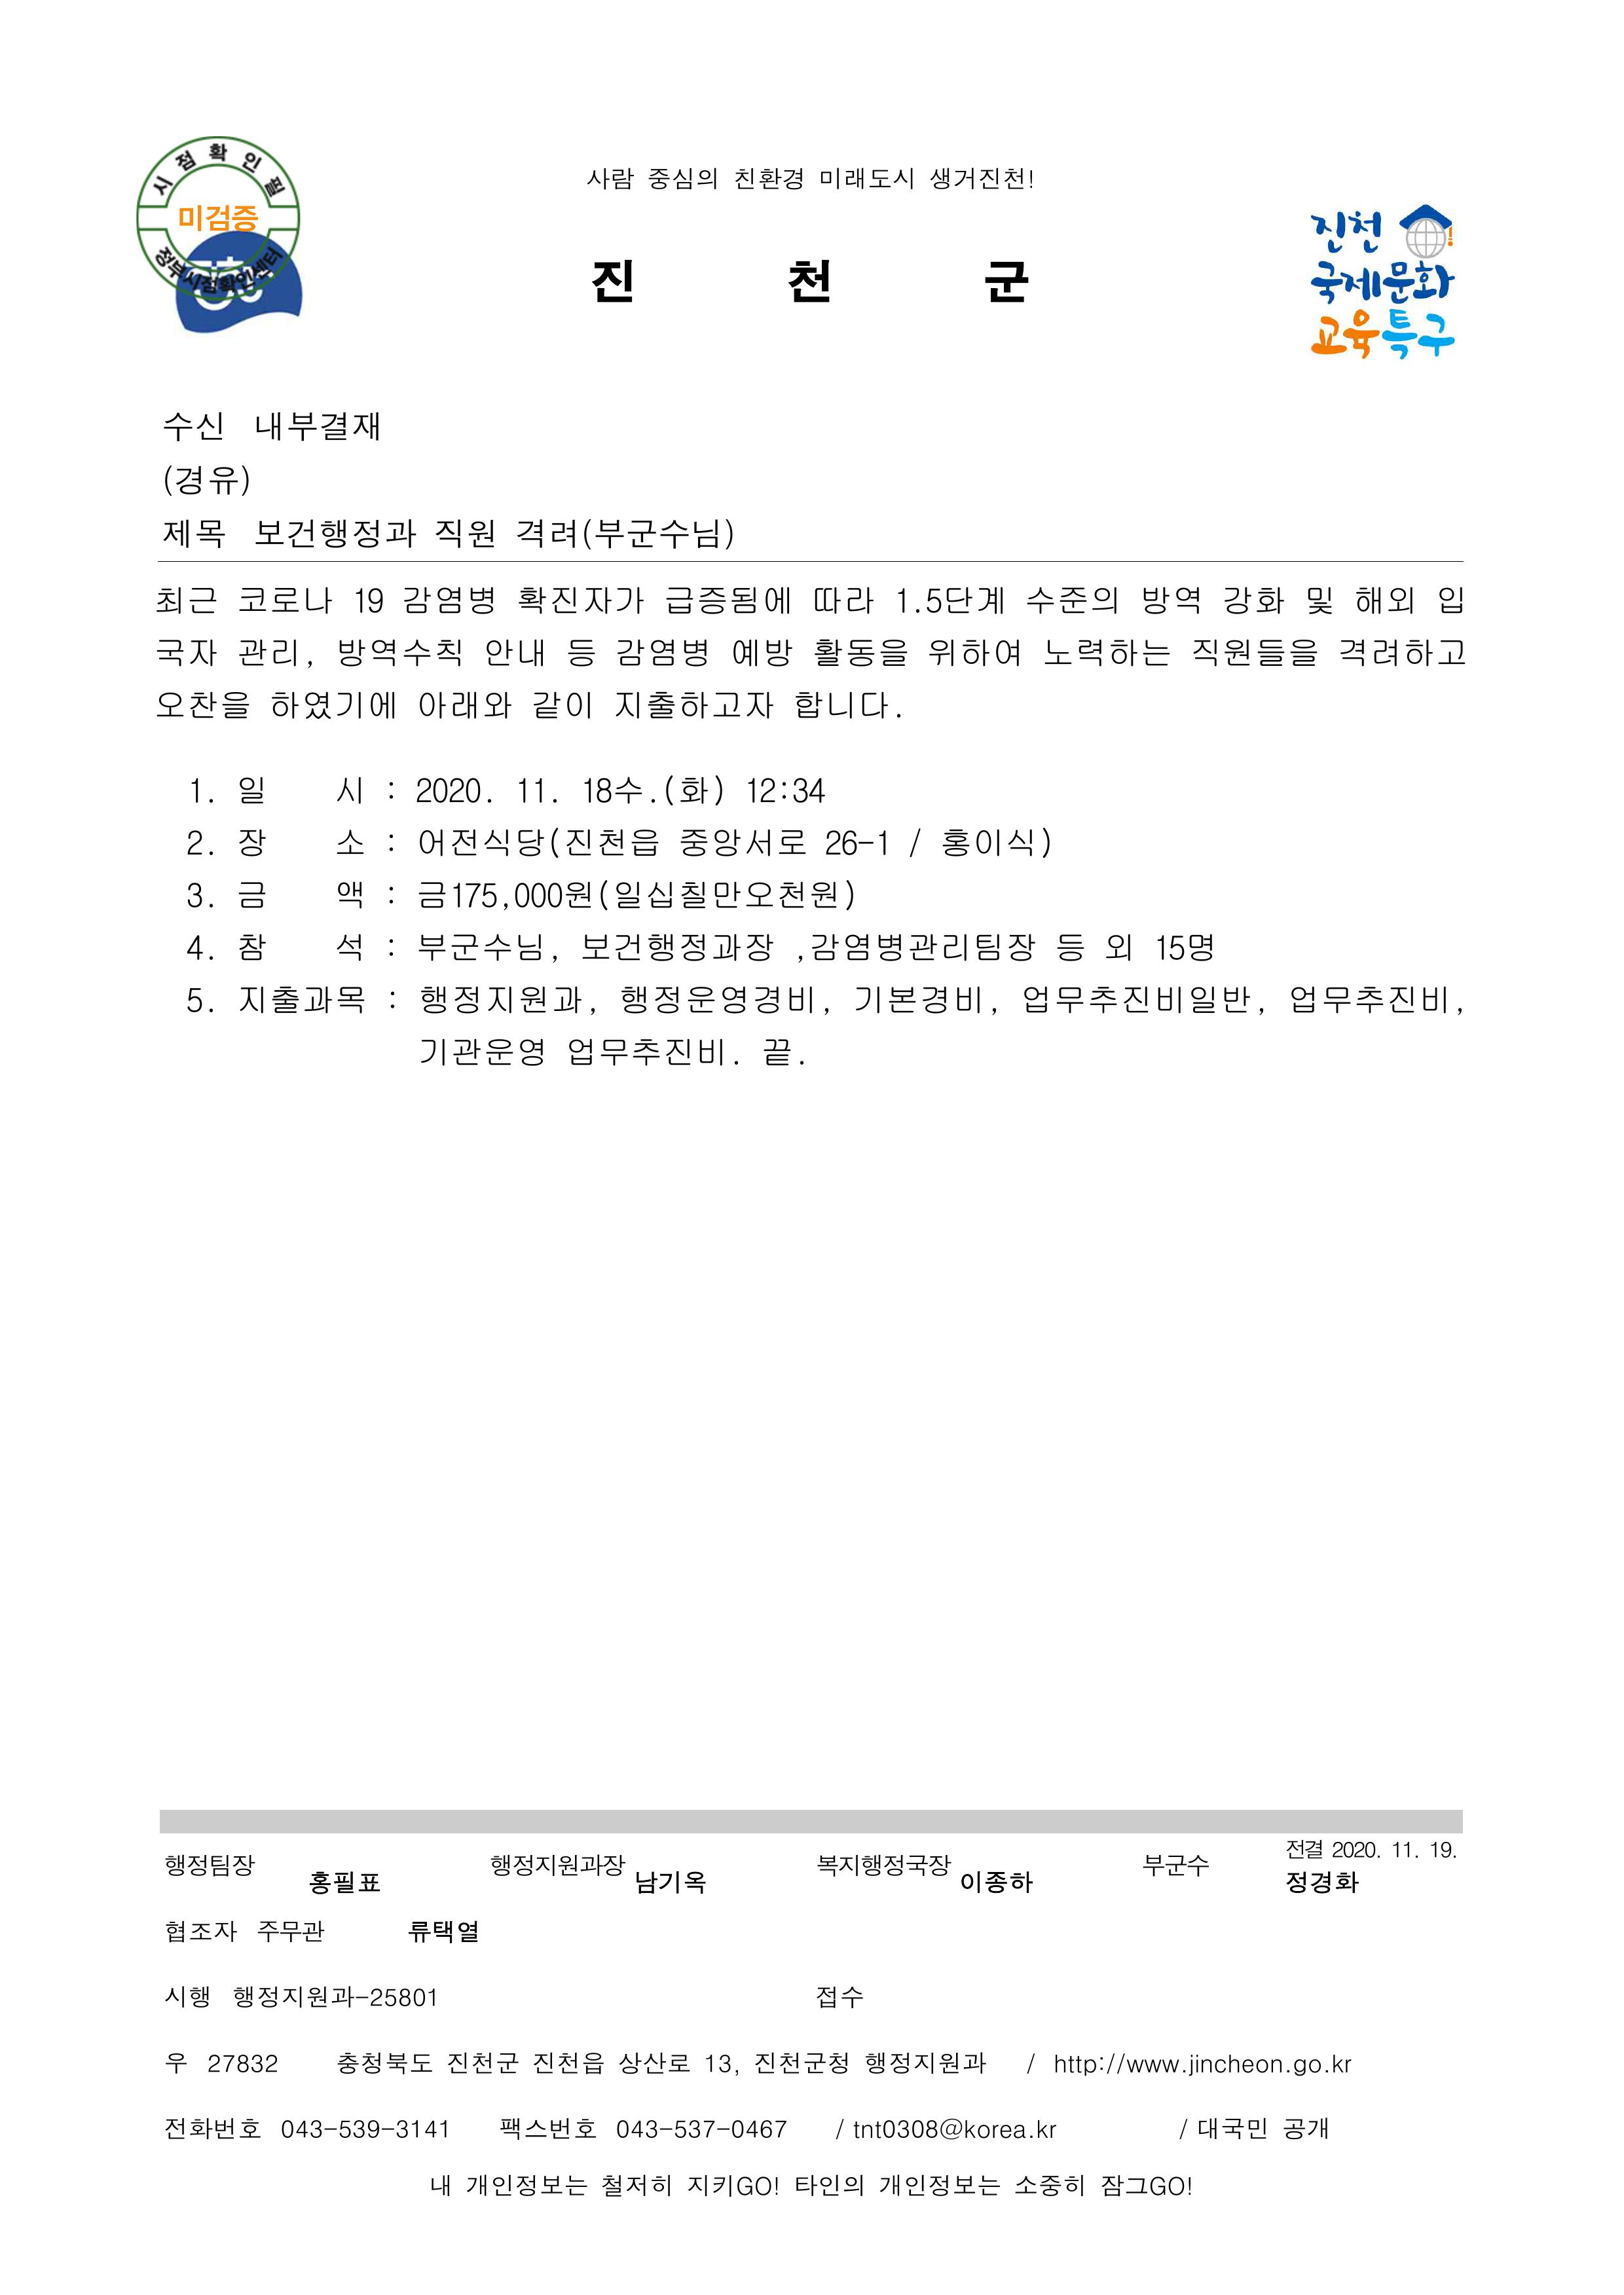t: (588, 254, 904, 315), (416, 875, 857, 914), (1018, 979, 1266, 1018), (416, 824, 659, 860), (513, 513, 735, 552), (807, 928, 1040, 964), (616, 982, 824, 1018), (577, 928, 778, 964), (1312, 258, 1456, 308), (1287, 979, 1463, 1018), (416, 982, 599, 1018), (563, 1033, 742, 1069), (610, 685, 774, 724), (254, 516, 419, 552), (416, 928, 552, 968), (849, 982, 997, 1018), (232, 979, 365, 1018), (663, 581, 792, 620), (268, 685, 397, 724), (416, 1033, 545, 1072), (1330, 634, 1466, 670), (1187, 634, 1319, 670), (1040, 634, 1172, 670), (513, 581, 645, 616), (251, 409, 380, 445), (333, 634, 462, 670), (678, 824, 807, 860), (1377, 304, 1456, 362), (853, 2119, 1029, 2144), (939, 824, 1054, 860), (860, 2047, 989, 2080), (893, 584, 1007, 620), (487, 1850, 627, 1879), (462, 2169, 588, 2201), (814, 1850, 953, 1879), (875, 2169, 1000, 2201), (1312, 304, 1380, 362), (792, 688, 900, 724), (396, 585, 498, 623), (157, 685, 251, 724), (613, 634, 710, 670), (810, 634, 907, 670), (925, 634, 1022, 670), (236, 581, 333, 616), (1022, 581, 1118, 616), (157, 462, 251, 498), (494, 2112, 599, 2144), (232, 1987, 365, 2011), (1050, 2055, 1183, 2080), (416, 688, 516, 720), (333, 2047, 434, 2080), (749, 2047, 849, 2080), (1097, 2169, 1194, 2201), (175, 200, 261, 236), (161, 1850, 254, 1882), (577, 771, 659, 807), (236, 634, 312, 670), (412, 774, 494, 807), (742, 774, 824, 807), (929, 168, 1036, 193), (979, 258, 1033, 308), (441, 2047, 523, 2080), (957, 1864, 1036, 1897), (656, 771, 728, 807), (821, 824, 893, 860), (530, 685, 595, 724), (527, 2047, 606, 2080), (613, 2047, 692, 2080), (161, 2112, 240, 2144), (1187, 2055, 1287, 2080), (337, 2119, 452, 2140), (674, 2119, 788, 2140), (631, 1864, 706, 1897), (430, 516, 498, 552), (480, 634, 548, 670), (728, 634, 796, 670), (645, 161, 720, 193), (731, 161, 807, 193), (304, 1868, 380, 1900), (254, 1915, 329, 1947), (599, 2169, 674, 2201), (792, 2169, 868, 2201), (1011, 2169, 1086, 2201), (817, 168, 914, 193), (1219, 581, 1287, 616), (1280, 1868, 1363, 1897), (688, 2173, 781, 2198), (161, 409, 226, 445), (1151, 928, 1215, 964), (154, 581, 219, 616), (810, 581, 875, 616), (409, 1915, 480, 1947), (1137, 581, 1201, 616), (204, 2047, 280, 2076), (1194, 2112, 1271, 2140), (161, 516, 226, 548), (1352, 584, 1416, 616), (157, 634, 219, 667), (1140, 1850, 1208, 1879), (164, 1922, 240, 1947), (369, 1987, 441, 2011), (513, 774, 563, 807), (814, 1983, 864, 2011), (584, 168, 638, 193), (280, 2119, 341, 2140), (232, 928, 268, 964), (1050, 928, 1086, 964), (760, 1036, 796, 1072), (616, 2119, 674, 2140), (563, 634, 595, 670), (232, 824, 265, 860), (164, 1987, 212, 2011), (1330, 1839, 1384, 1861), (1283, 2119, 1330, 2144), (351, 584, 387, 616), (183, 824, 215, 860), (333, 824, 369, 856), (1101, 928, 1133, 964), (183, 982, 219, 1014), (186, 774, 219, 807), (232, 878, 265, 911), (1301, 584, 1334, 616), (333, 774, 365, 807), (183, 932, 219, 961), (333, 928, 365, 961), (703, 2051, 742, 2076), (236, 774, 265, 807), (1434, 584, 1463, 616), (1283, 2058, 1323, 2080), (1287, 1839, 1323, 1861), (186, 882, 212, 911), (1025, 2123, 1061, 2140), (337, 882, 365, 904), (1431, 1839, 1459, 1861), (1391, 1839, 1416, 1861), (168, 2051, 190, 2076), (240, 2119, 261, 2140), (430, 2176, 452, 2198), (1330, 2058, 1356, 2076)
